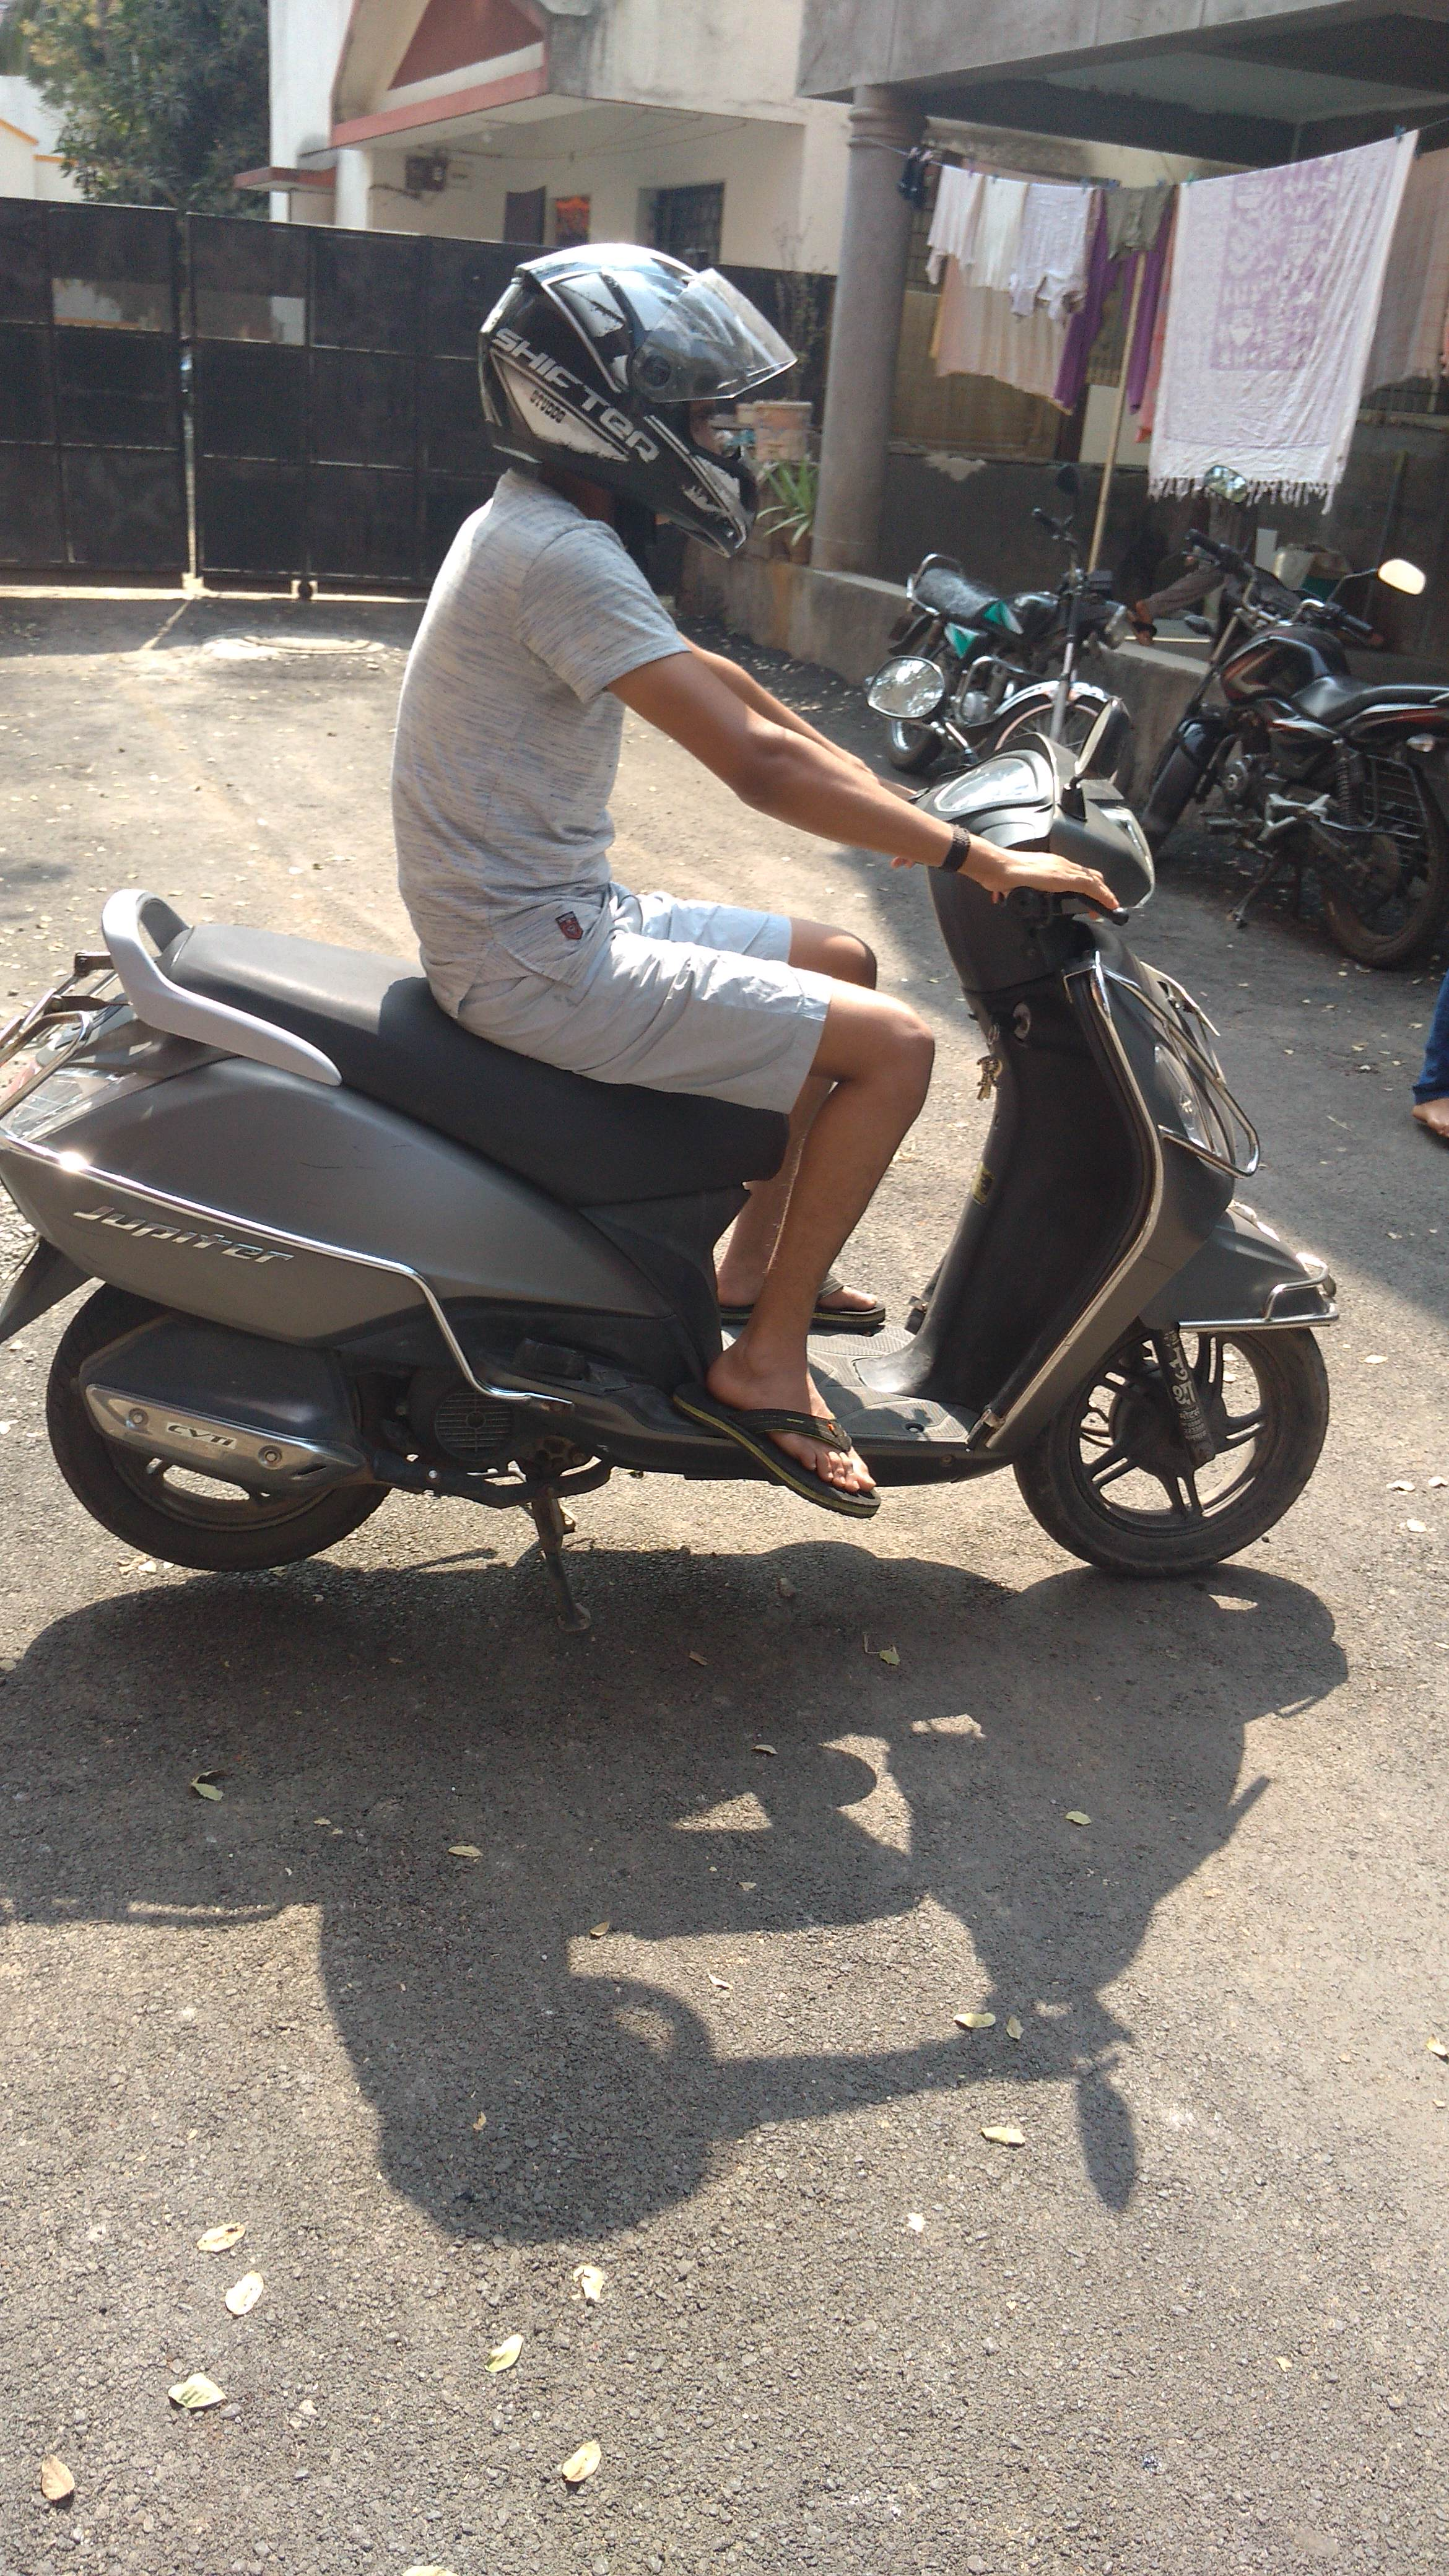helmet: (373, 207, 918, 1069)
